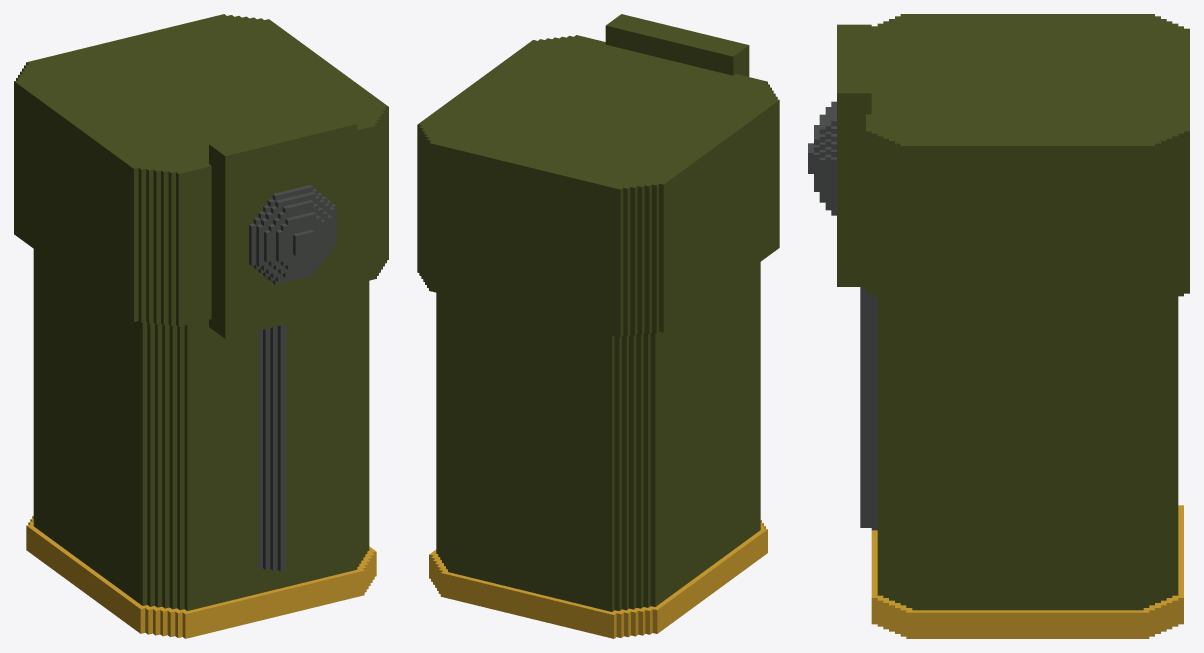
File: legguard_trooper_worn_shin.glb
3 views of the same model, side by side, from view 1: azimuth 30°, elevation 25°; view 2: azimuth 150°, elevation 25°; view 3: azimuth 270°, elevation 25° (orthographic). The views are drawn at different scales.
Visible parts, largest first — view 1: legguard_trooper_worn_shin:compound; view 2: legguard_trooper_worn_shin:compound; view 3: legguard_trooper_worn_shin:compound.
Part boxes in pixels (<box>): legguard_trooper_worn_shin:compound: <box>14,14,388,638</box>; legguard_trooper_worn_shin:compound: <box>417,14,779,638</box>; legguard_trooper_worn_shin:compound: <box>808,14,1189,638</box>.
Size of the model in its own units: 0.216 by 0.396 by 0.264.
